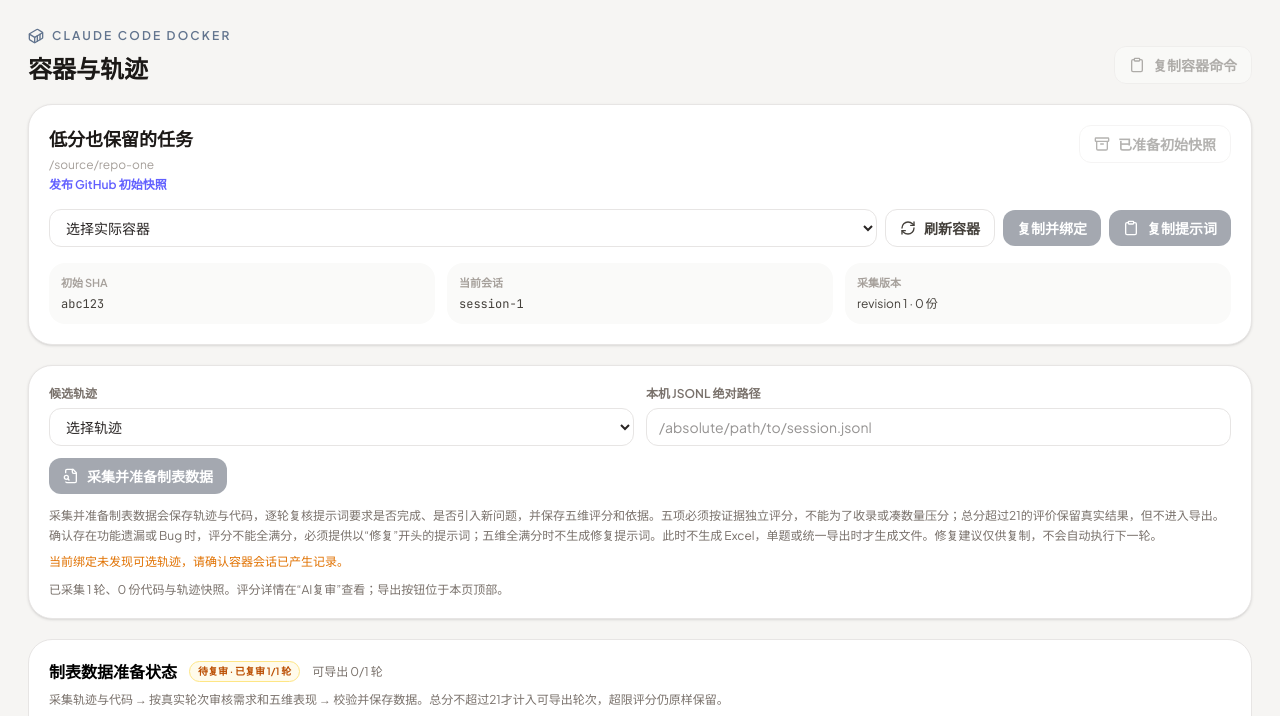
Test: AnnotationWorkspace › prepares table data directly from the capture panel without another round
The width and height of the screenshot is (1280, 716).
Type "/tmp/current.jsonl" into the field labelled "本机 JSONL 绝对路径" at (938, 426), box [646,408,1231,446]
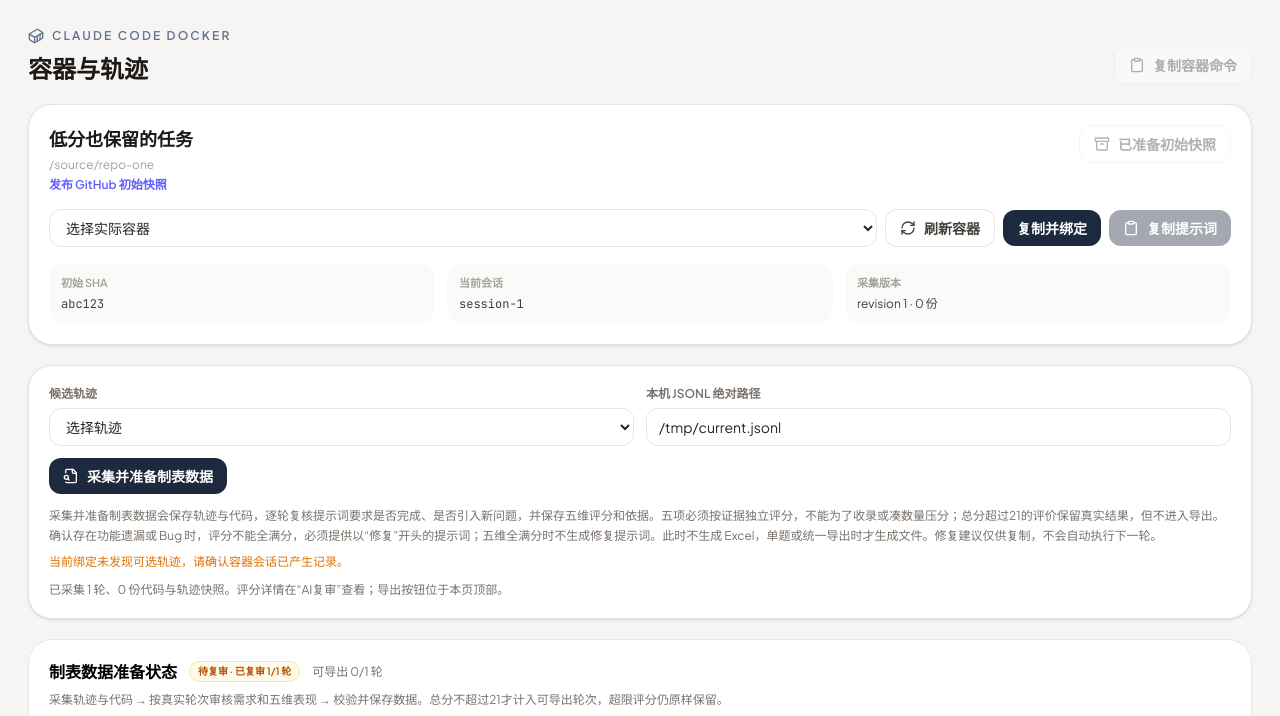
Click the button "采集并准备制表数据" at (138, 476), box [49,458,227,494]
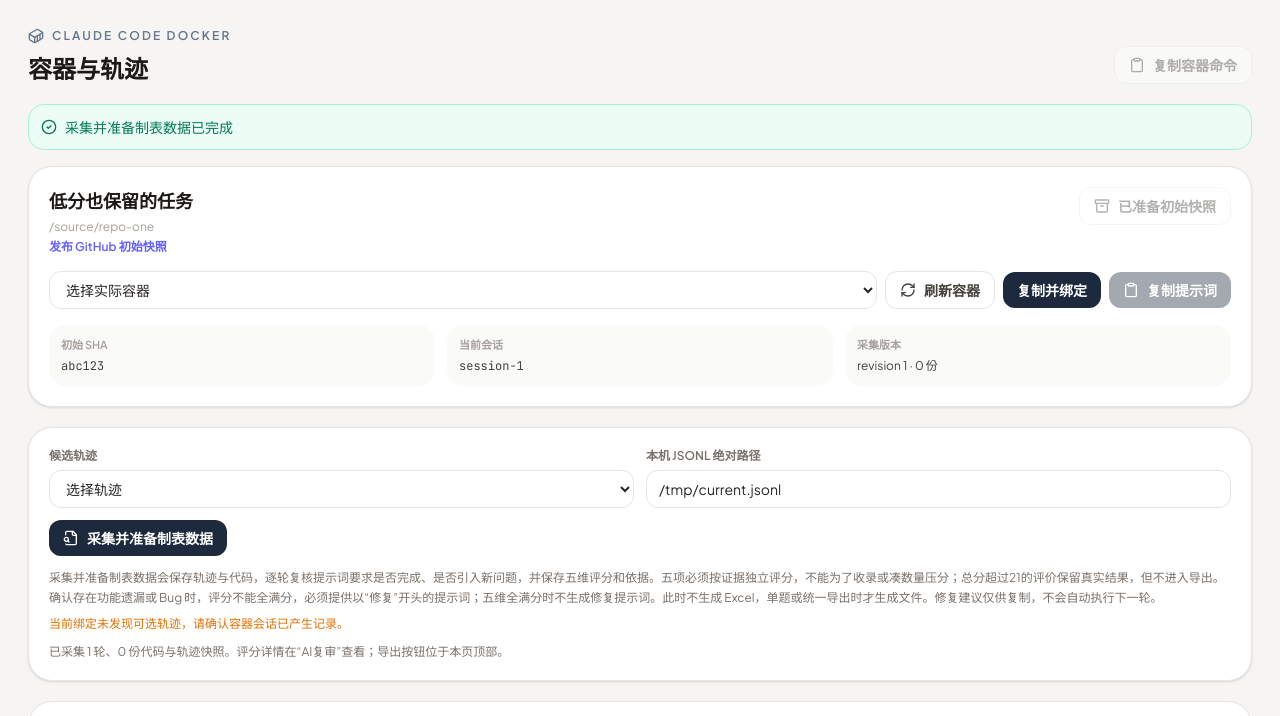
Expected: the text "采集并准备制表数据已完成" is shown, [28,104,1252,150]
